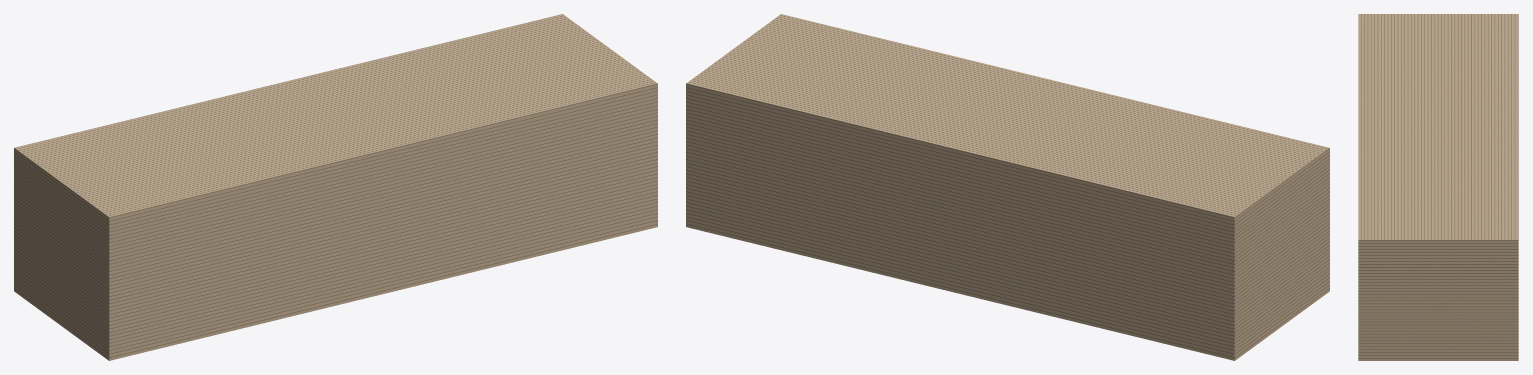
File: fairground_grandstand.glb
3 views of the same model, side by side, from view 1: azimuth 30°, elevation 25°; view 2: azimuth 150°, elevation 25°; view 3: azimuth 270°, elevation 25° (orthographic). The views are drawn at different scales.
Parts seen in each view (by area): view 1: fairground_grandstand-col; view 2: fairground_grandstand-col; view 3: fairground_grandstand-col.
Part boxes in pixels (left/top/right/bottom): fairground_grandstand-col: left=14, top=14, right=657, bottom=360; fairground_grandstand-col: left=686, top=14, right=1329, bottom=360; fairground_grandstand-col: left=1358, top=14, right=1518, bottom=360.
Bounding box in the file's own units: 20 × 5 × 6.
1 material, 1 textured.
